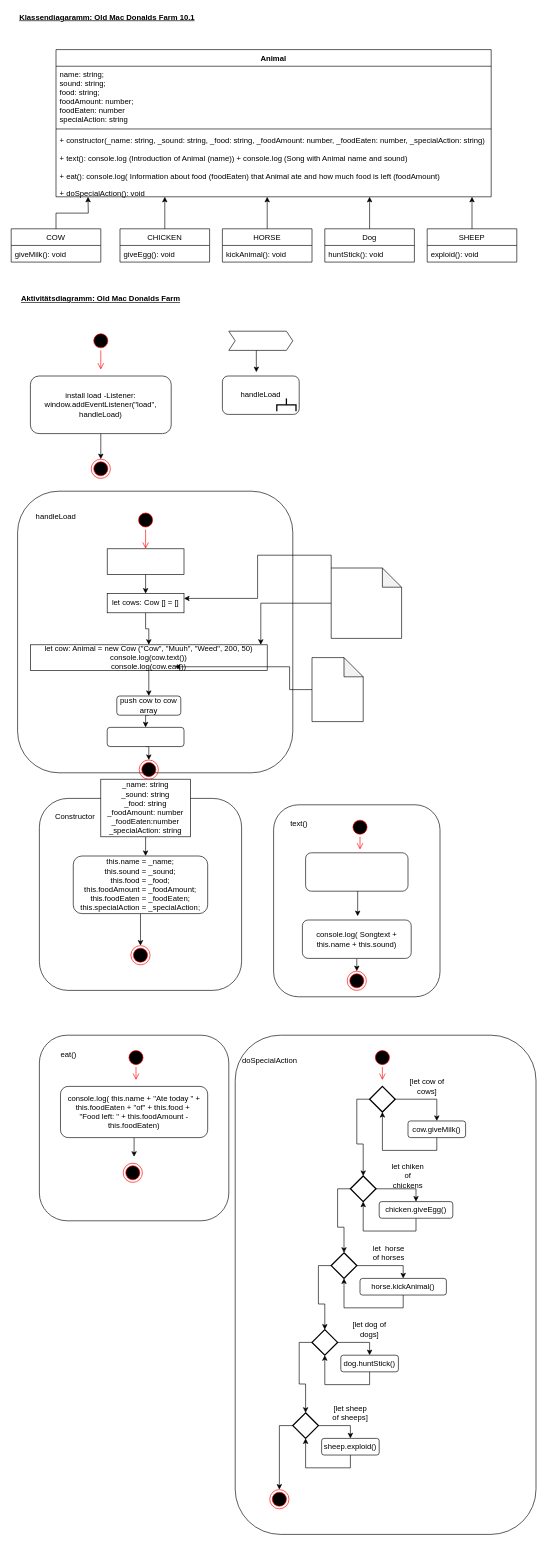
The diagram is 547 pixels wide and 1546 high, and some of its shapes have lost their labels. Here are the shapes that lost their labels. From the top down, the centre of each, then its label:
point 260,340: load
point 145,561: class Animal
point 366,602: this for every Animal, but with different attributes
point 337,689: get functions inside the class Animal
point 145,737: doSpecialAction()
point 356,871: console.log("Hey I am a " + this.name)
